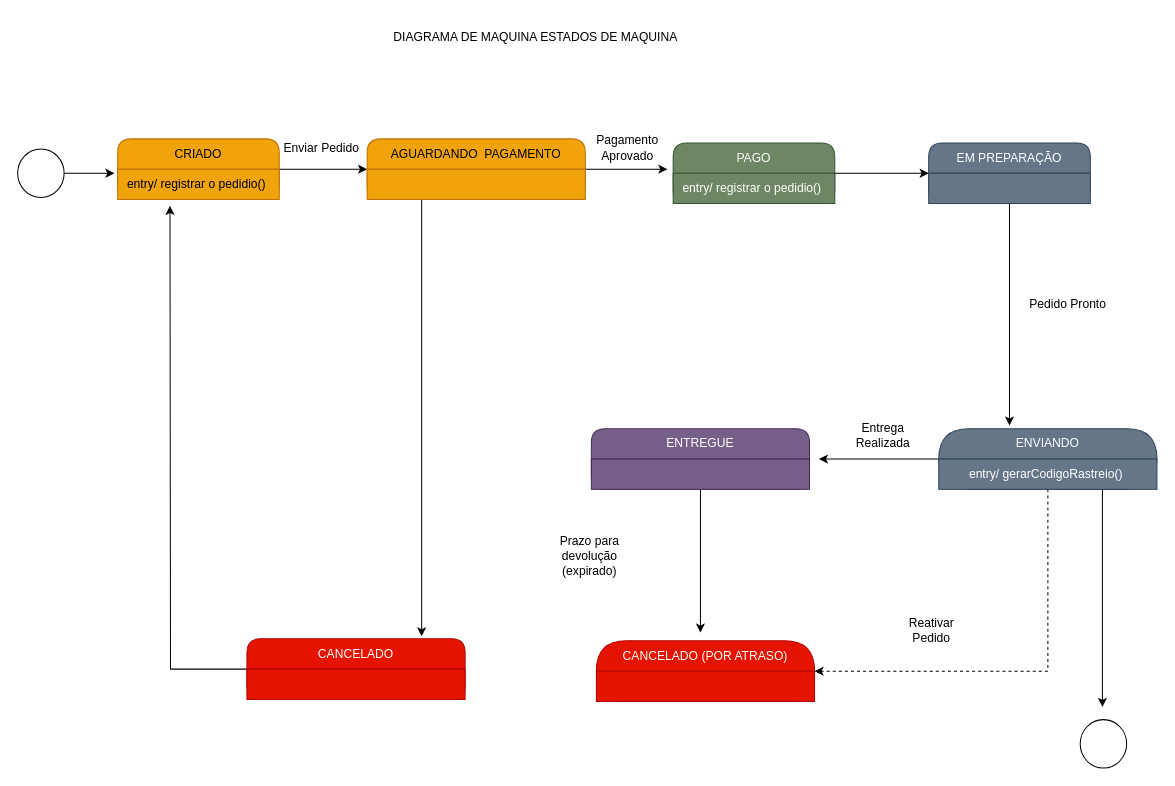
This 1175x786 diagram has some shape labels left out. Here are the shapes that lost their labels. From the top down, the centre of each, then its label:
At pixel 475 183: "entry/ gerar boleto()".
At pixel 1009 188: "entry/ separtar itens ()".
At pixel 700 473: "entry/ confirmarentrega() solicitar avaliacao()".
At pixel 355 683: "entry/ cancelarPedido( )".
At pixel 705 685: "entry/ registarOcorrencia()".
